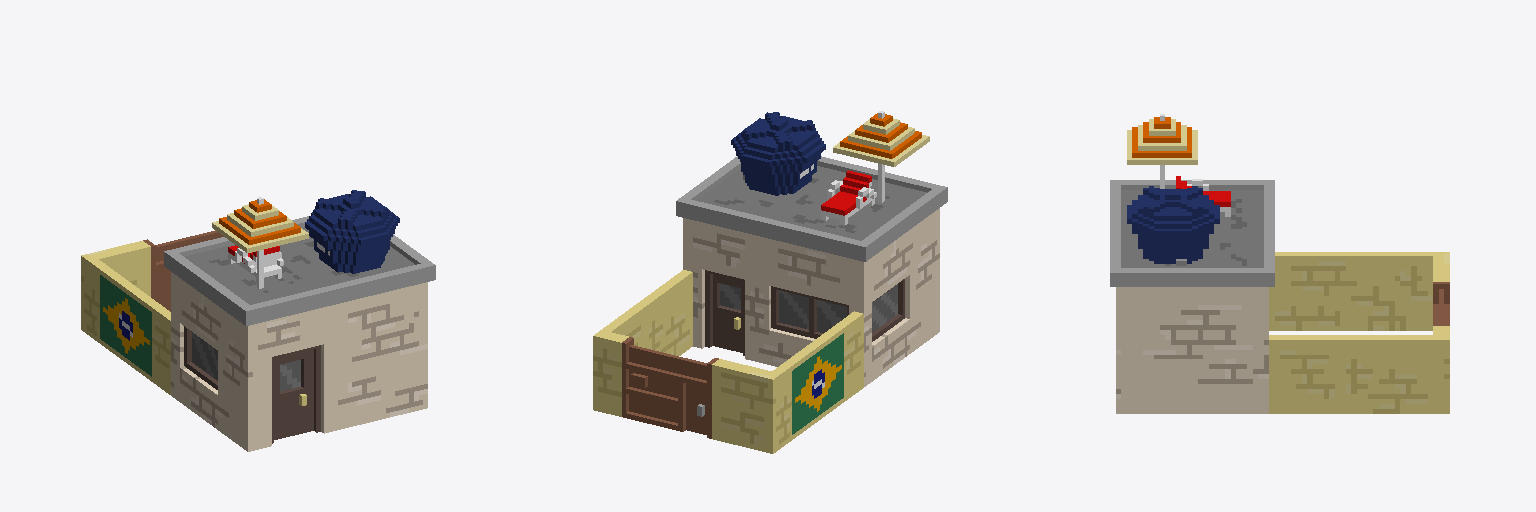
3 renders of one model, left to right at view 1: azimuth 30°, elevation 25°; view 2: azimuth 150°, elevation 25°; view 3: azimuth 270°, elevation 25°, orthographic.
Visible parts, largest first — view 1: object 1; view 2: object 1; view 3: object 1.
Part boxes in pixels (x1,y1,x2,y2): object 1: (81, 190, 435, 451); object 1: (593, 111, 947, 453); object 1: (1110, 114, 1449, 413).
Bounding box in the file's own units: 4 × 4.6 × 6.2.
Materials: 1 (1 with a texture image).